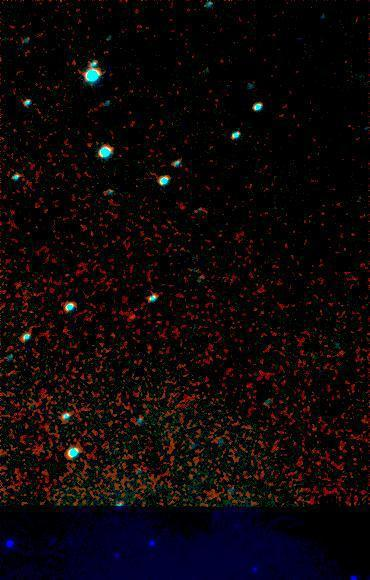star: (116, 302, 146, 332)
